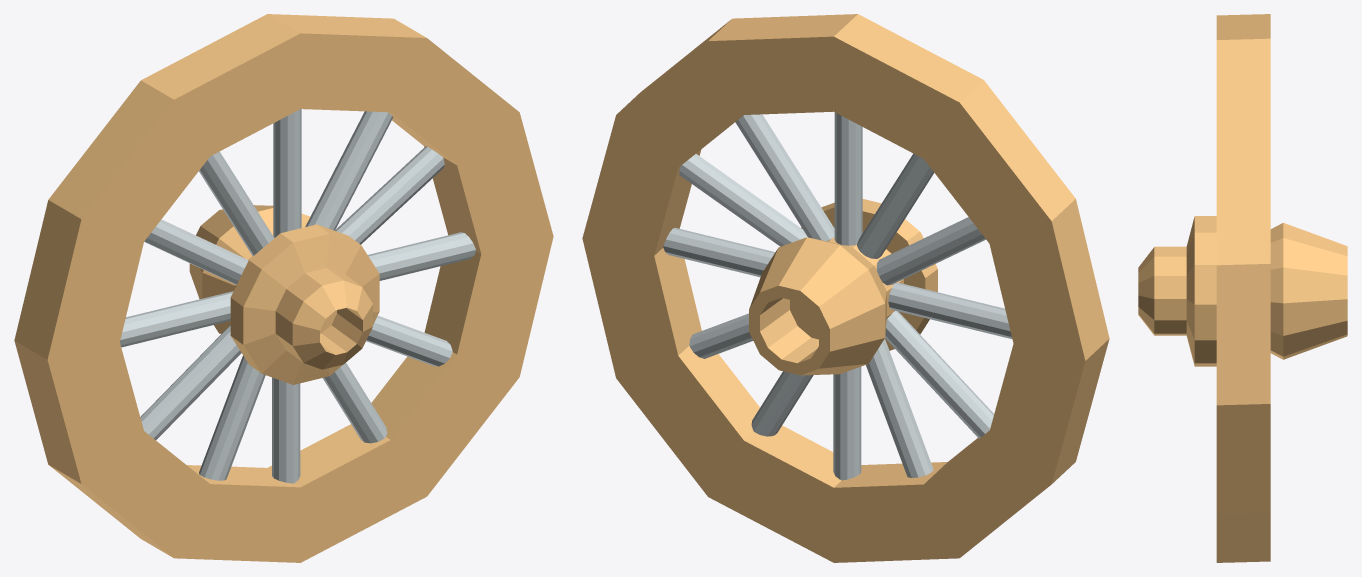
Rendered from old-wheel-by-jarlan-perez-5ielb0ODEJZ.glb.
The picture shows the model from 3 angles, left to right: view 1: azimuth 30°, elevation 25°; view 2: azimuth 150°, elevation 25°; view 3: azimuth 270°, elevation 25°; orthographic projection. The views are drawn at different scales.
Visible parts, largest first — view 1: Node; view 2: Node; view 3: Node.
Boxes of the visible parts, bbox=[...] form: Node: bbox=[14, 14, 553, 562]; Node: bbox=[582, 14, 1109, 562]; Node: bbox=[1138, 14, 1347, 562].
Bounding box in the file's own units: 0.6885 × 0.6833 × 0.26.
